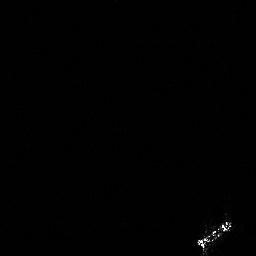ship: (194, 218, 237, 256)
